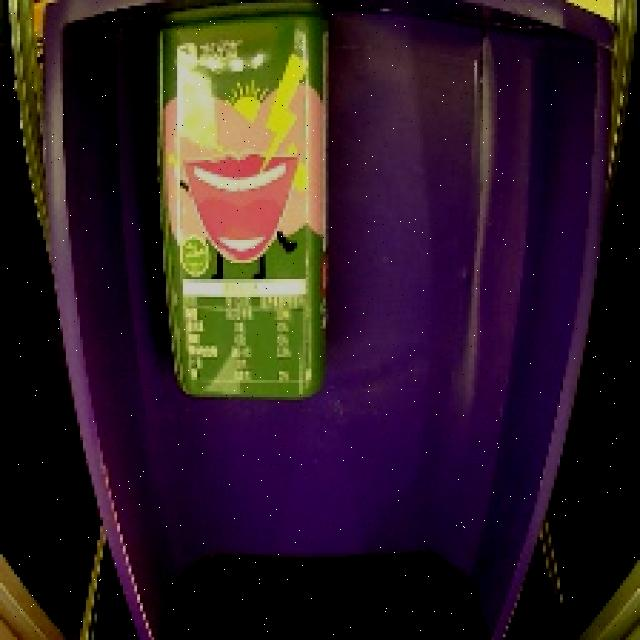metal: (137, 0, 346, 417)
